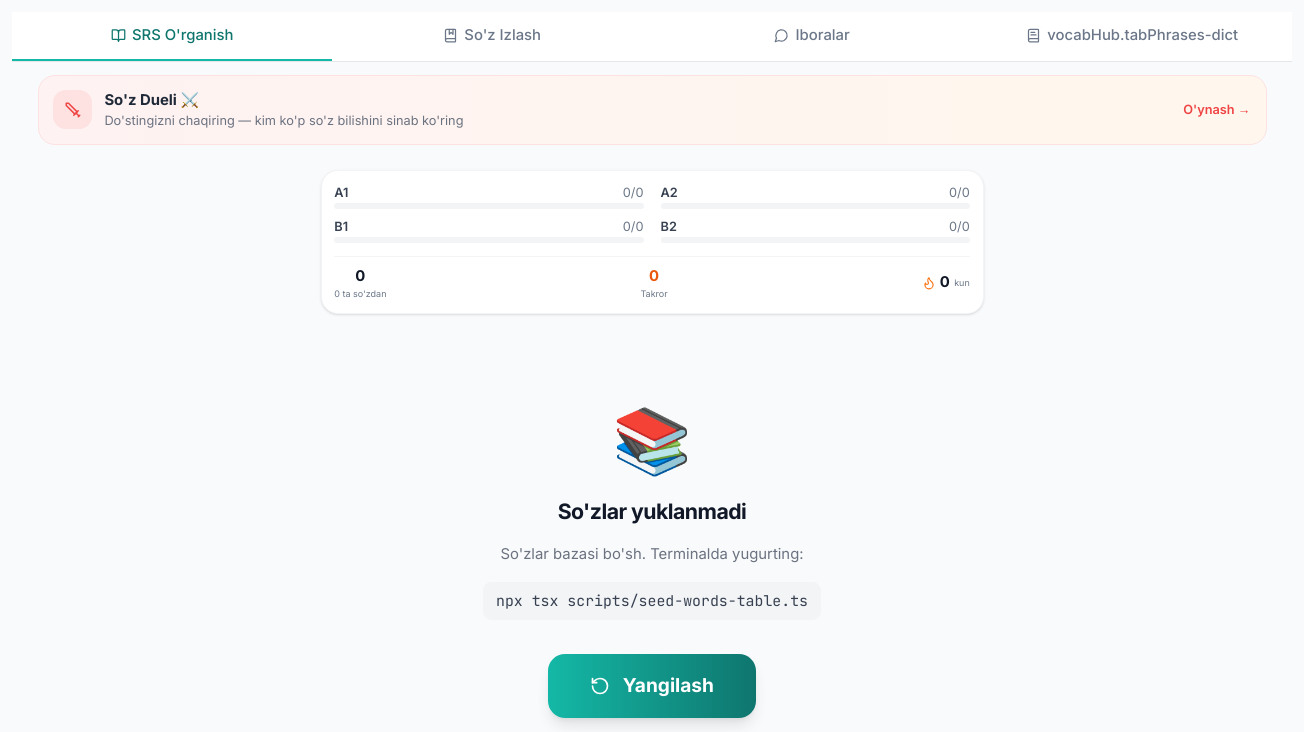
VocabHub — VocabBattle banner (Task A) › shows banner again when switching back to learn tab
The width and height of the screenshot is (1304, 732).
Click the button "So'z Izlash": (492, 36) x1=332 y1=12 x2=652 y2=61
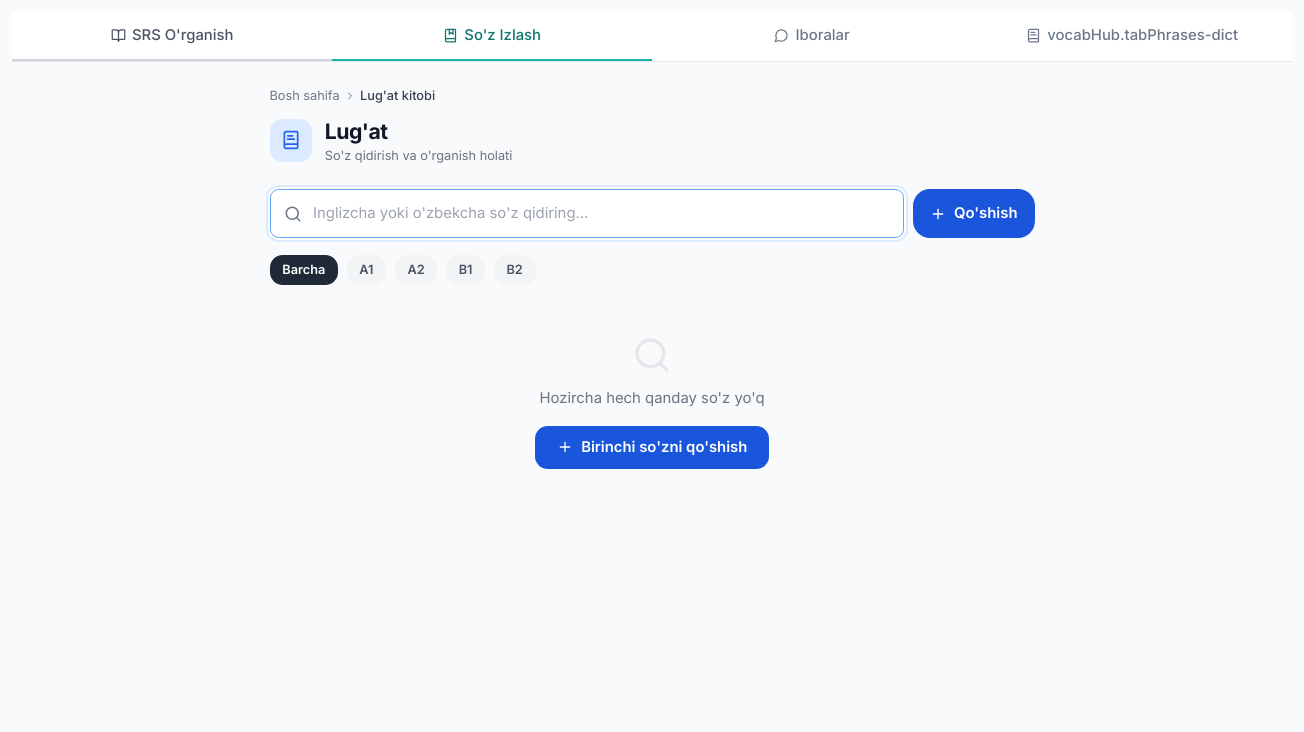
Expected: the button "So'z Dueli" is gone
Click the button "SRS O'rganish": (172, 36) x1=12 y1=12 x2=332 y2=61
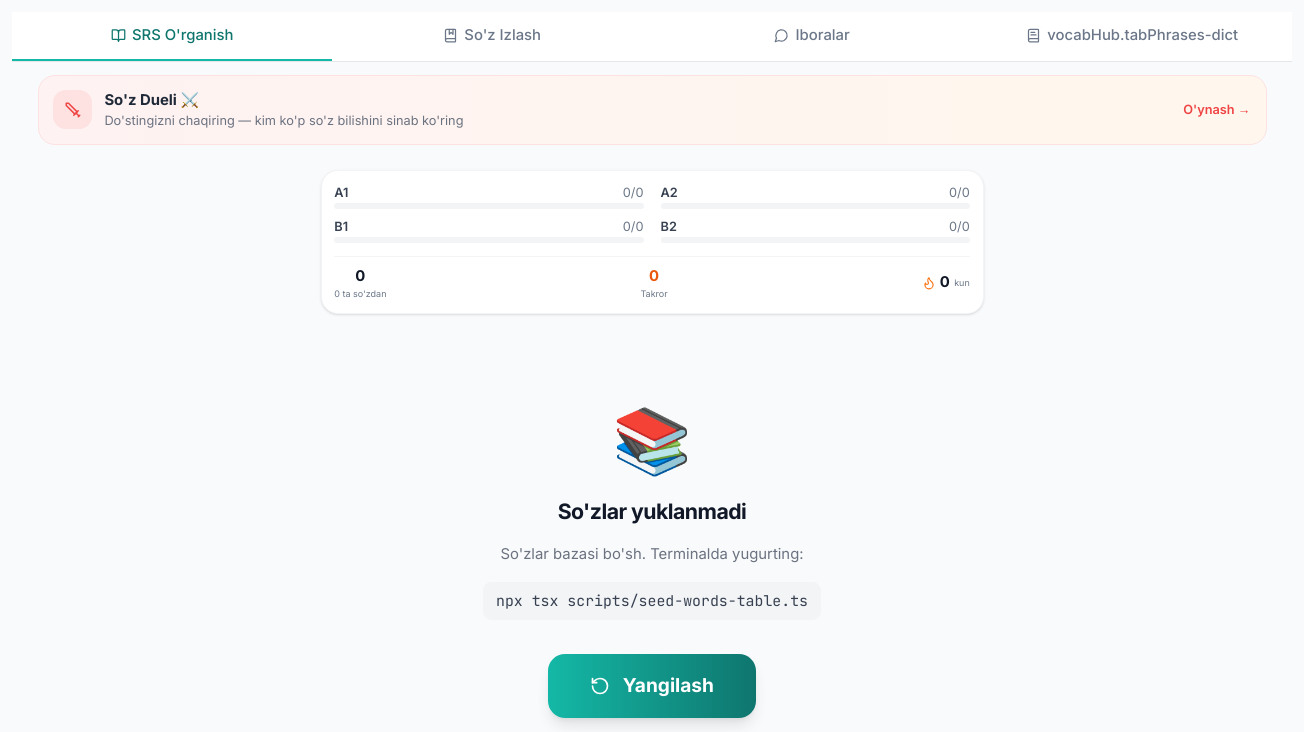
Expected: the button "So'z Dueli" is shown, x1=38 y1=74 x2=1266 y2=144
